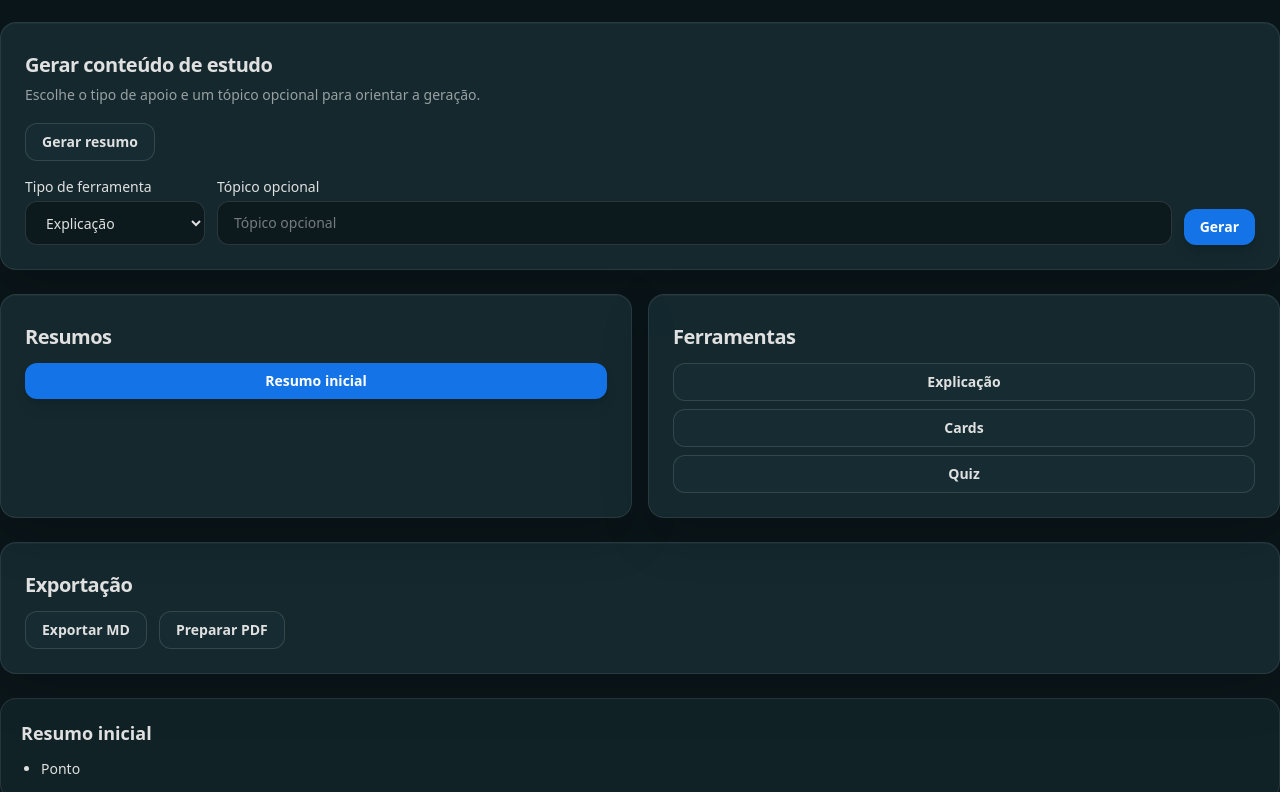
Test case: StudyToolsPage › exporta MD/PDF e mantém mensagens de sucesso
This screenshot has width=1280, height=792.
(page scrolled)
Click the button "Exportar MD": (86, 630) [25, 611, 147, 649]
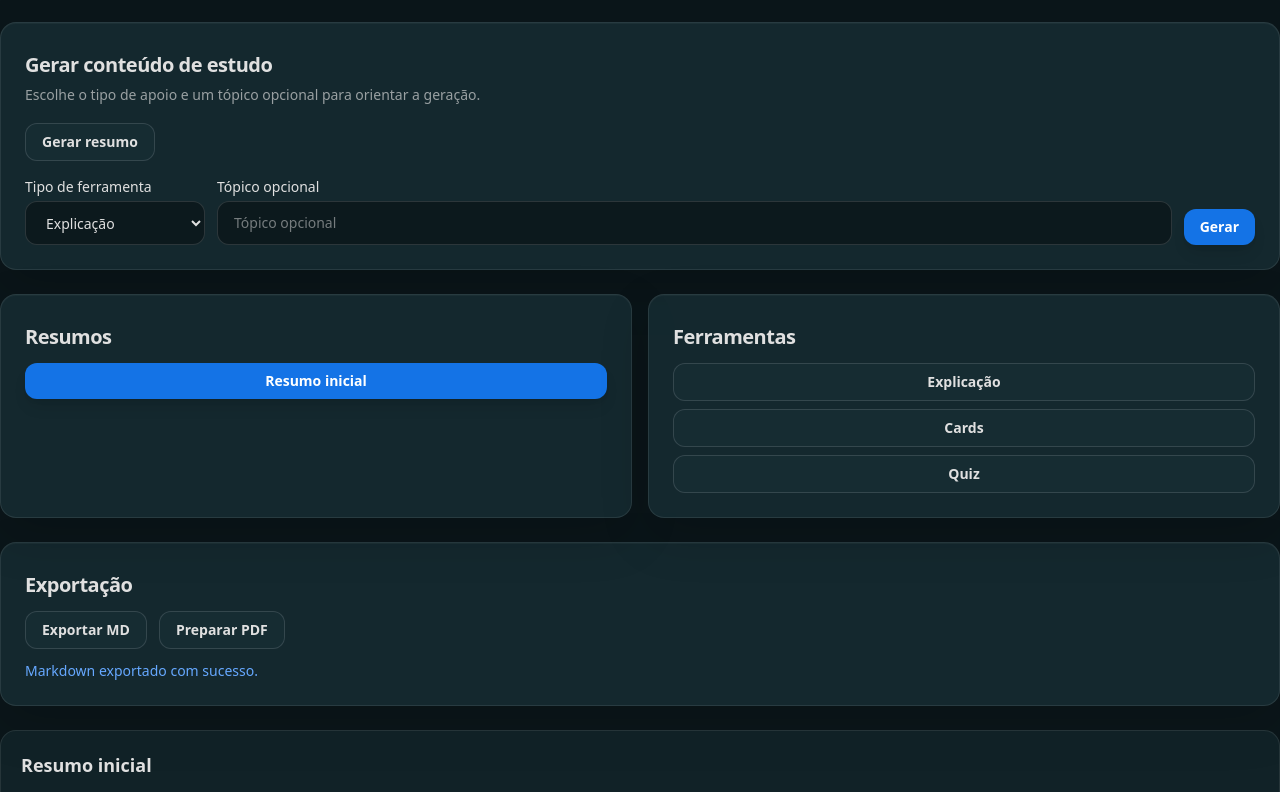
Expected: the text "Markdown exportado com sucesso." is shown, [25, 661, 258, 680]
Click the button "Preparar PDF": (222, 630) [159, 611, 285, 649]
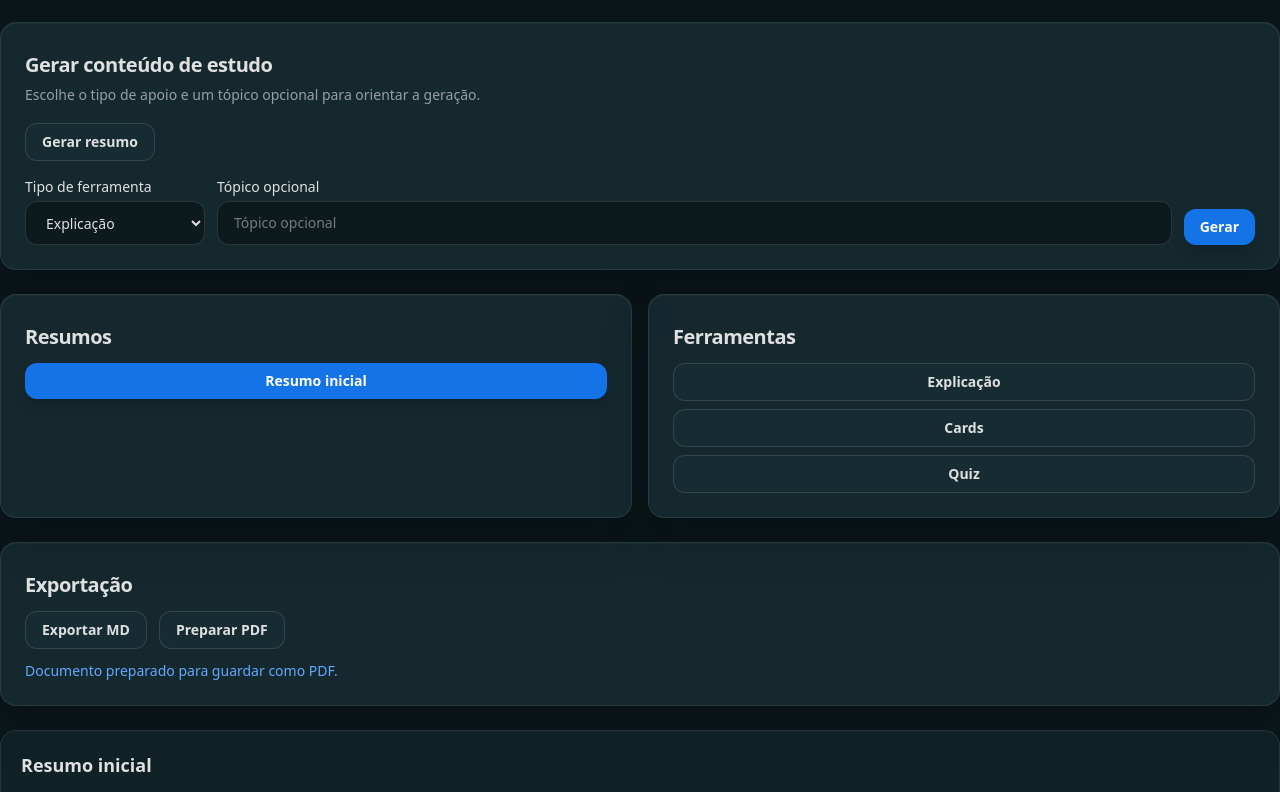
Expected: the text "Documento preparado para guardar como PDF." is shown, [25, 661, 338, 680]
